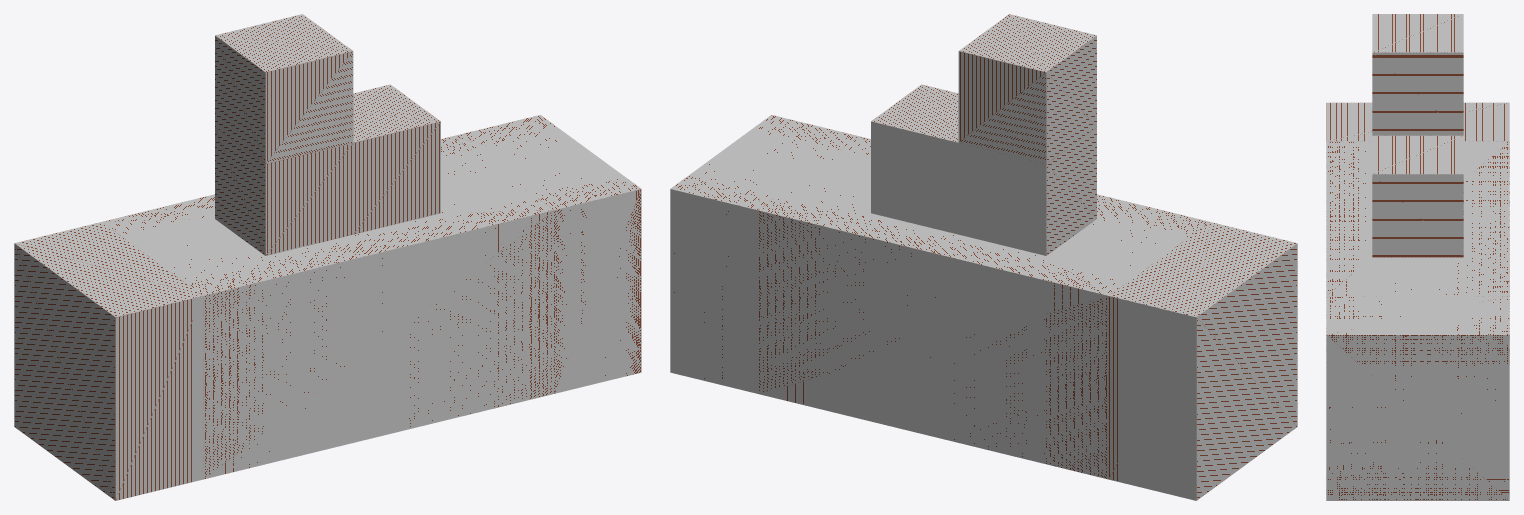
The model's file is wood-stick-01.fbx.
3 renders of one model, left to right at view 1: azimuth 30°, elevation 25°; view 2: azimuth 150°, elevation 25°; view 3: azimuth 270°, elevation 25°, orthographic. The views are drawn at different scales.
Visible parts, largest first — view 1: generated; view 2: generated; view 3: generated.
Boxes of the visible parts, bbox=[...] form: generated: bbox=[14, 14, 641, 500]; generated: bbox=[670, 14, 1297, 500]; generated: bbox=[1326, 14, 1509, 500].
Size of the model in its own units: 60 by 40 by 20.
Materials: 1 (1 with a texture image).
